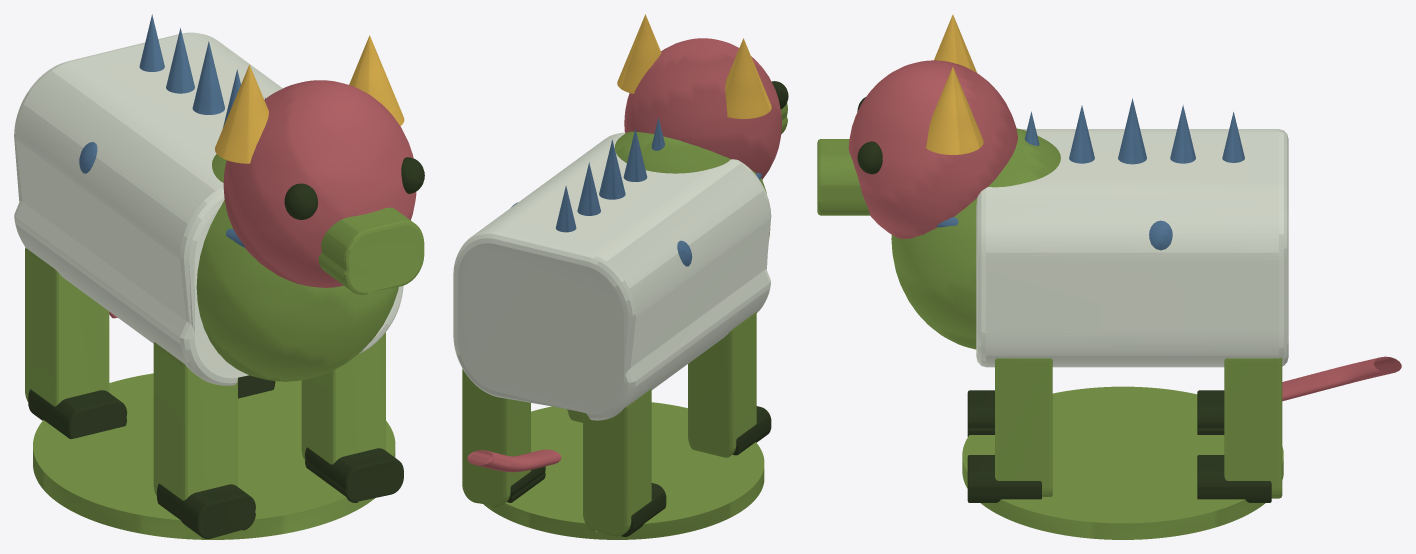
The model's file is 0840_两栖动物图鉴_玻璃蛙.glb.
3 views of the same model, side by side, from view 1: azimuth 30°, elevation 25°; view 2: azimuth 150°, elevation 25°; view 3: azimuth 270°, elevation 25° (orthographic). The views are drawn at different scales.
Visible parts, largest first — view 1: card_0840; view 2: card_0840; view 3: card_0840.
Boxes of the visible parts, x1,y1,x2,y2 form: card_0840: (14,14,424,539); card_0840: (453,14,788,539); card_0840: (817,14,1401,539).
Bounding box in the file's own units: 0.68 × 1 × 1.23.
